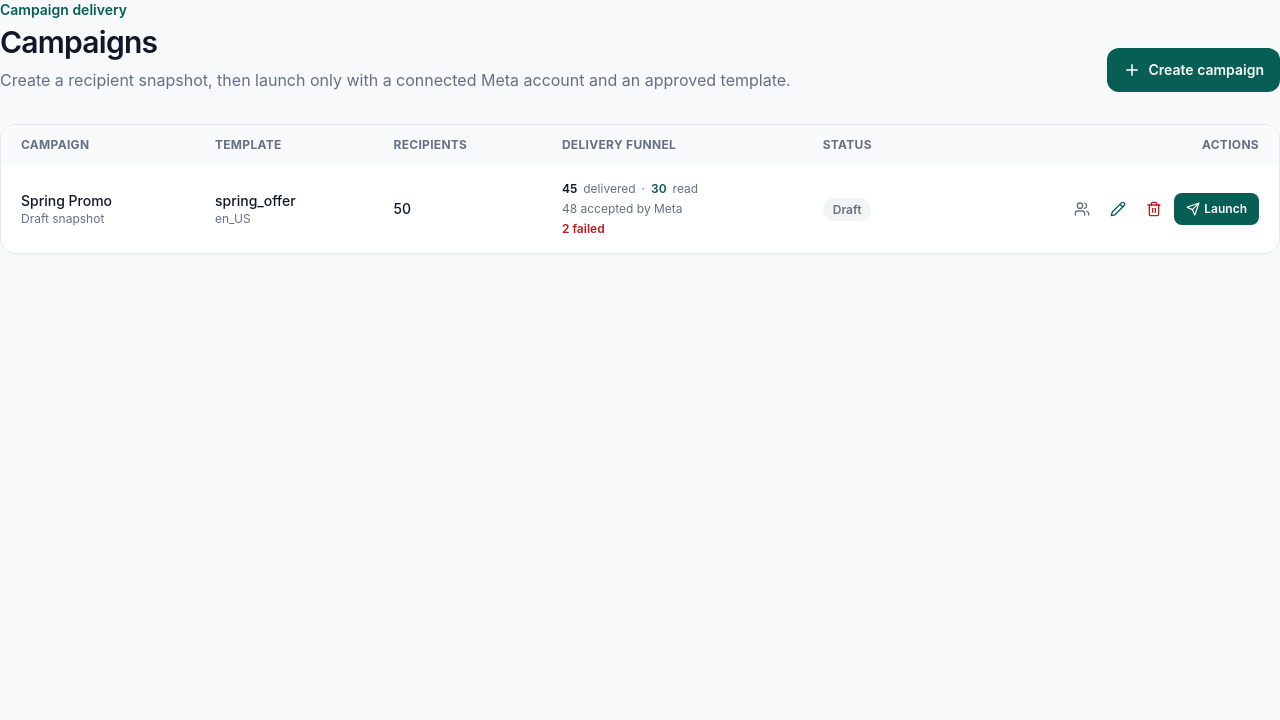
Scenario: CampaignsPage › renders campaign delivery funnel and opens launch confirmation dialog
The width and height of the screenshot is (1280, 720).
Check: the text "Spring Promo" is shown, box [21,192,112,209]
Check: the text "45" is shown, box [562,181,577,197]
Click the button "Launch": x=1217, y=209 [1174,193,1259,225]
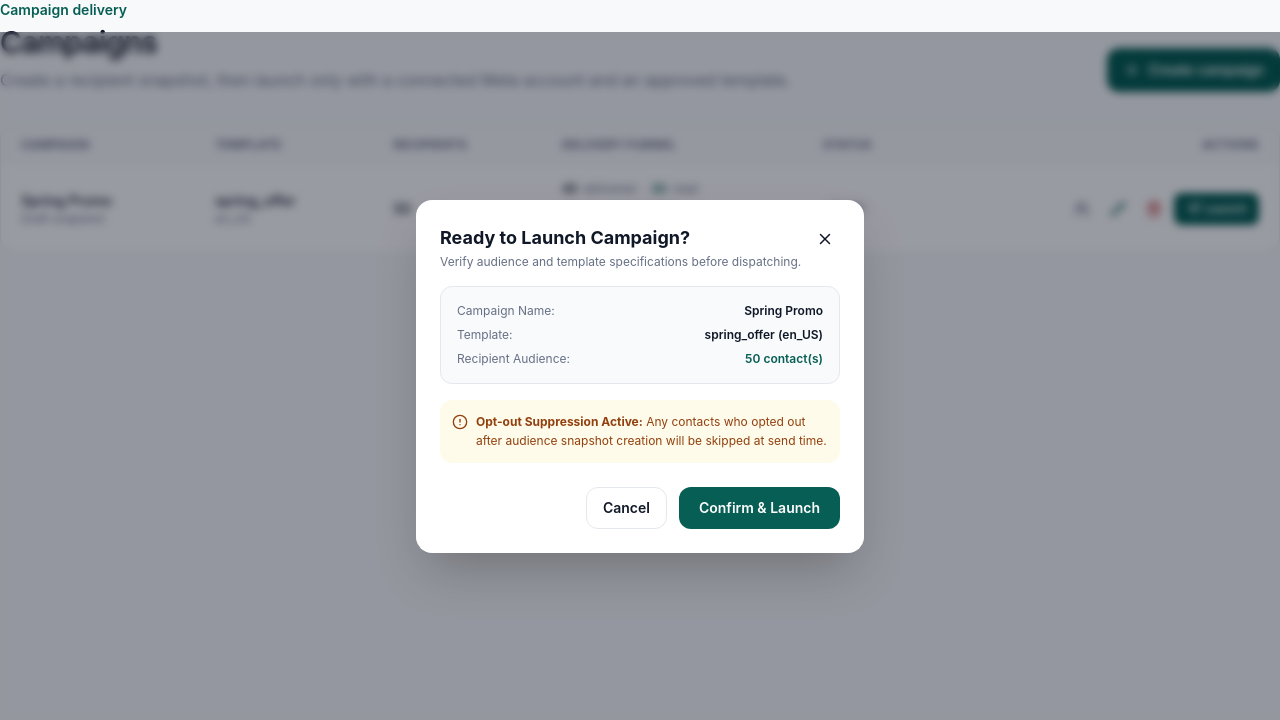
Check: the heading "Ready to Launch Campaign?" is shown, box [440,226,690,248]
Check: the text "50 contact(s)" is shown, box [745,350,823,366]
Check: the text "Opt-out Suppression Active:" is shown, box [476,414,643,428]
Note: Close launch modal
Click the button "Cancel": x=626, y=508 [586,486,667,528]
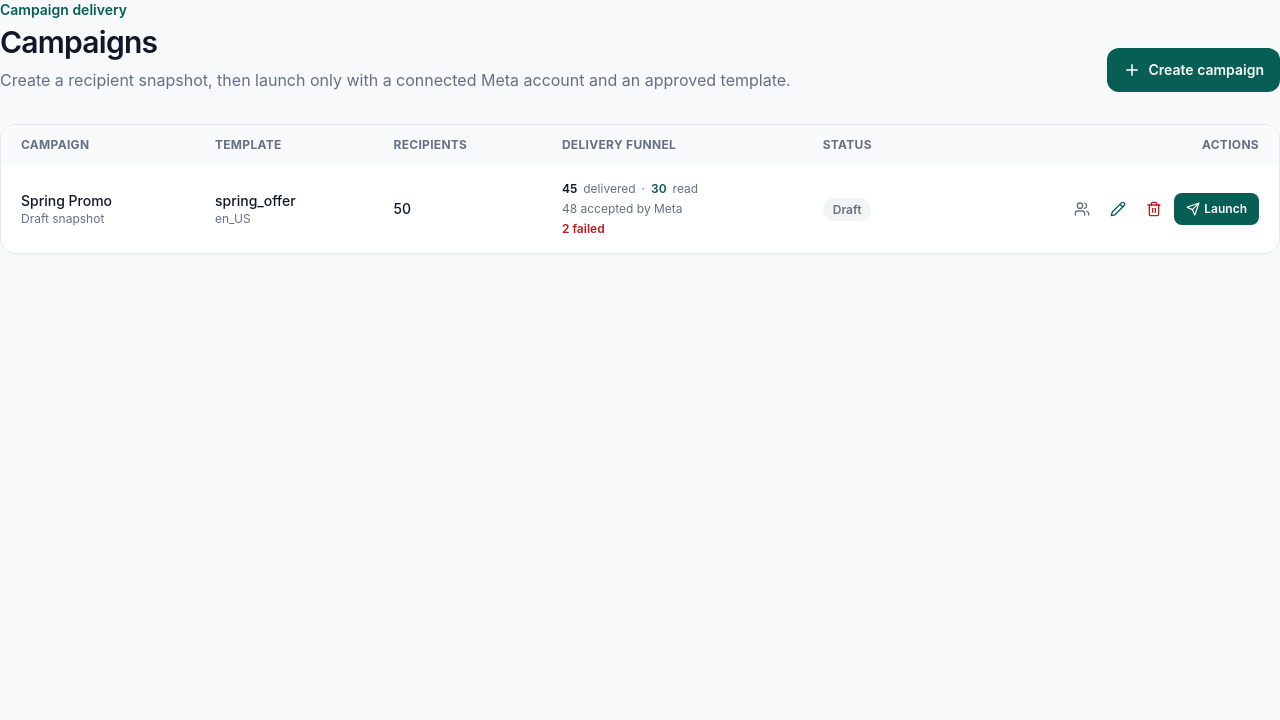
Note: Inspect recipients drawer
Click the button named "View recipients for Spring Promo": x=1082, y=209 [1066,193,1098,225]
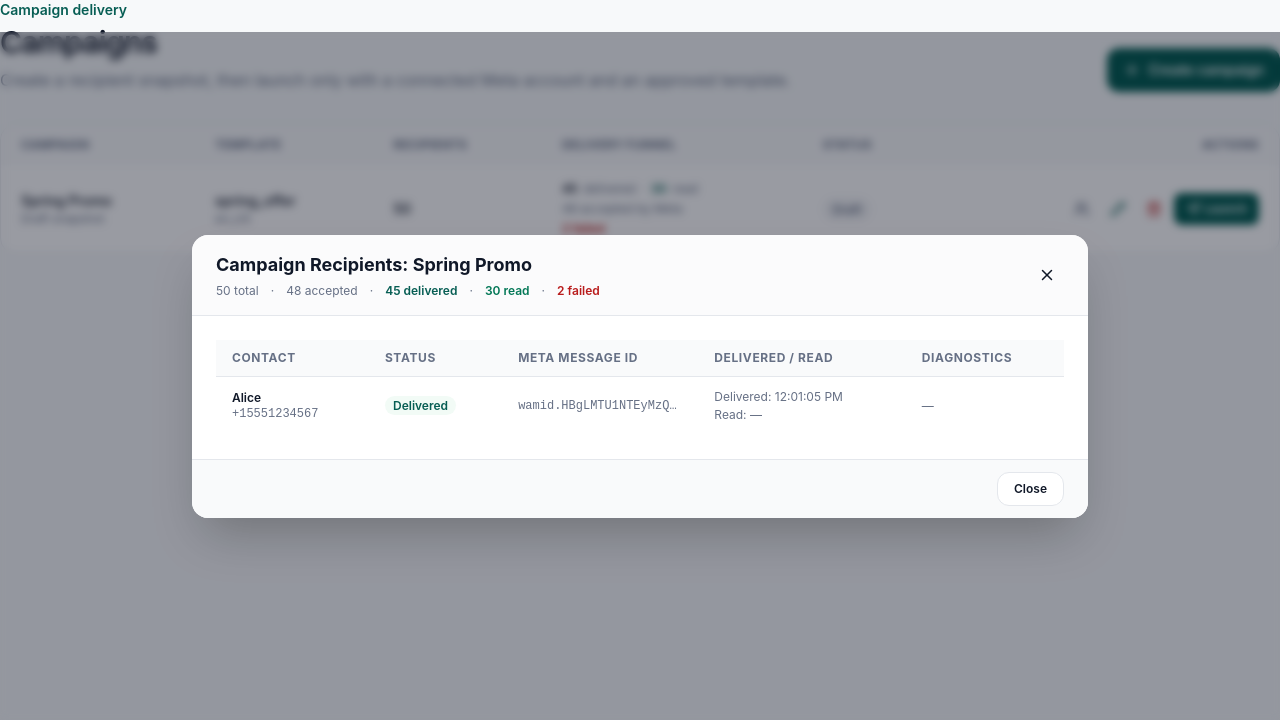
Check: the heading "Campaign Recipients: Spring Promo" is shown, box [216,254,532,274]
Check: the text "Alice" is shown, box [232,390,261,404]
Check: the text "+15551234567" is shown, box [232,406,318,420]
